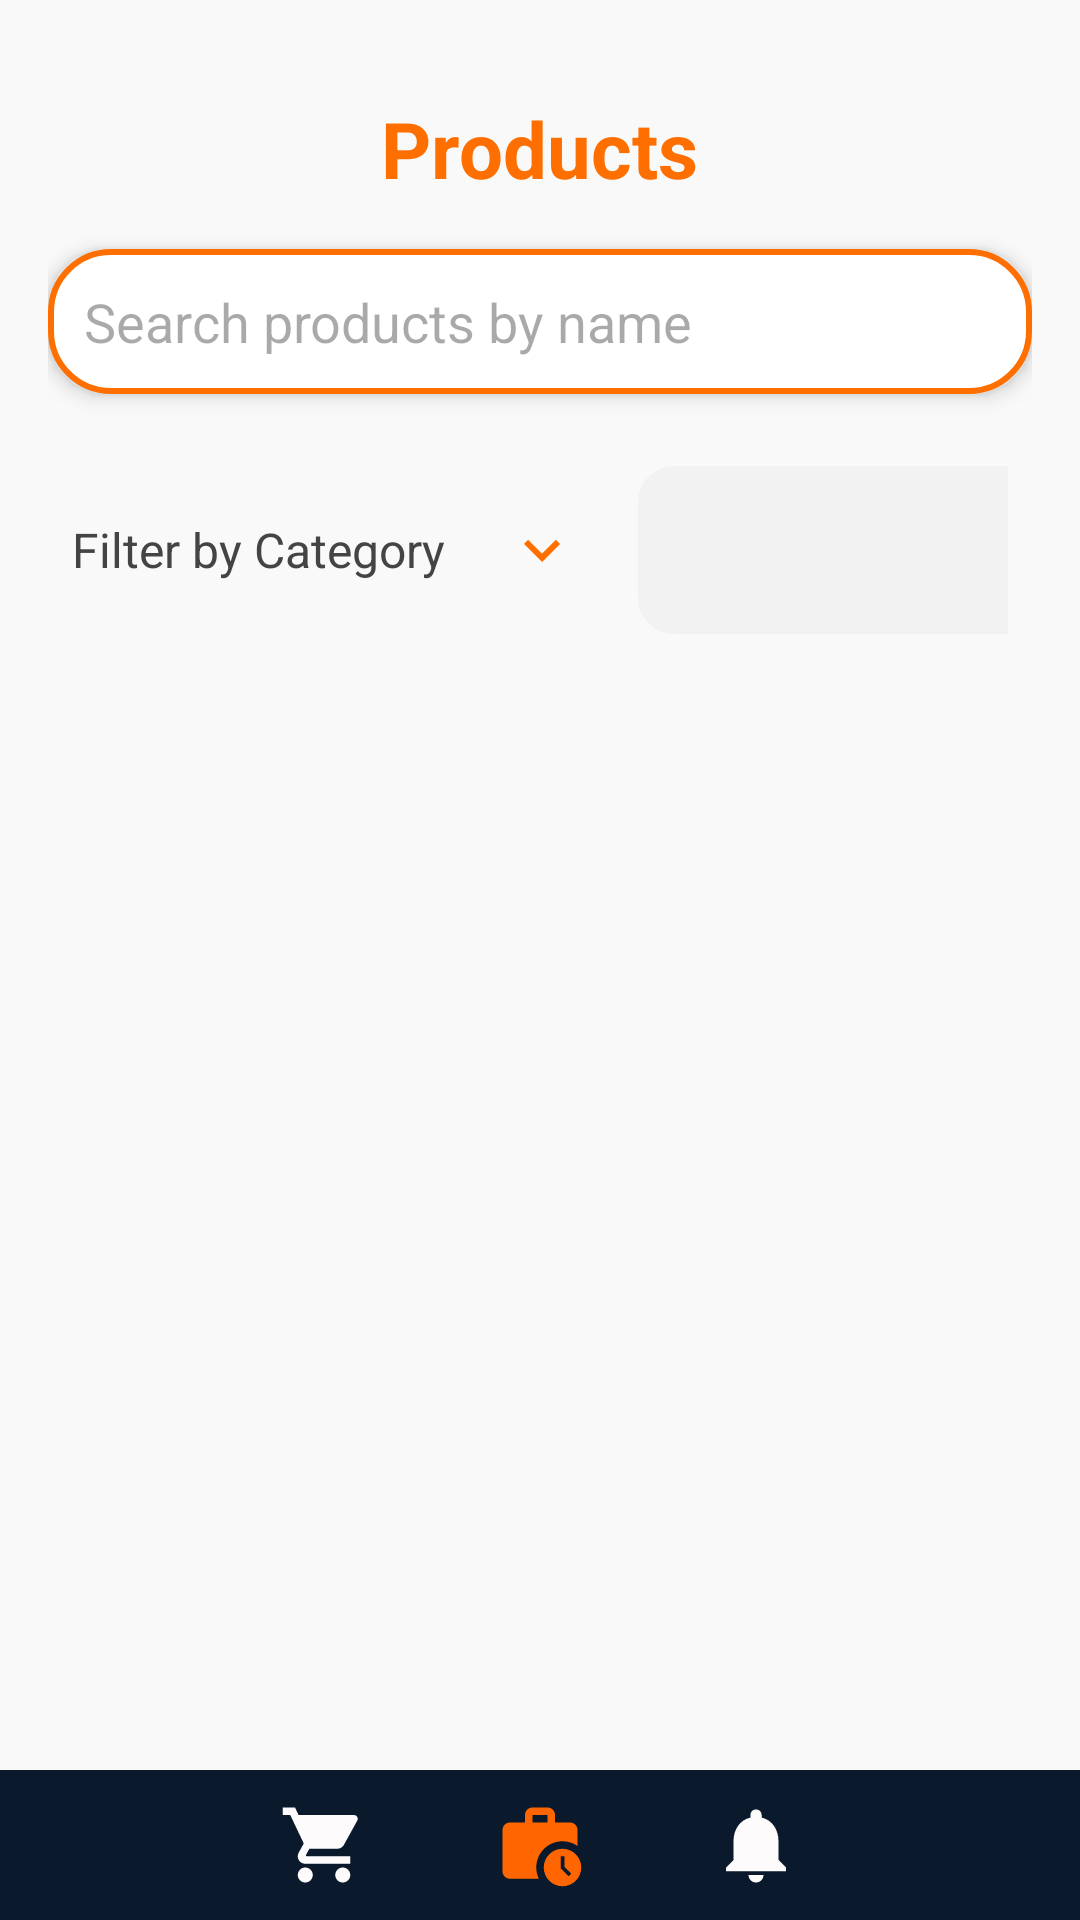

Icons on this 1080*1920 Android screen, each with the point to tap as (x,y):
cart: (320,1845)
notifications: (756,1846)
work history: (542,1847)
